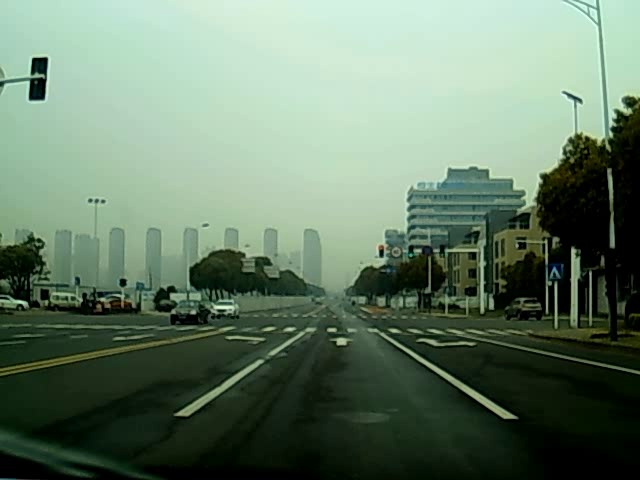Traffic_Light_go: (406, 245, 414, 260)
Traffic_Light_stop: (378, 244, 385, 259)
